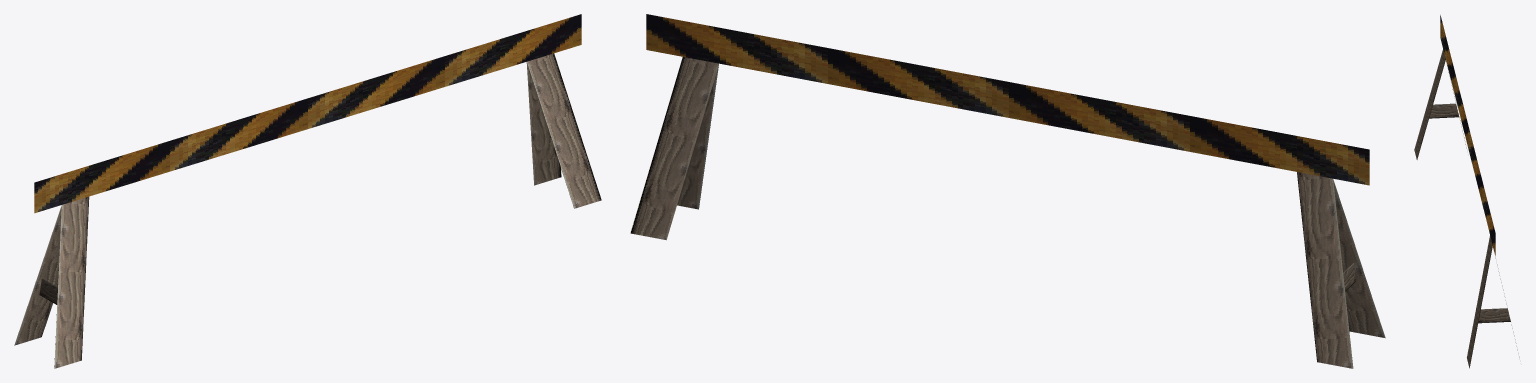
Rendered from primary_026.glb.
3 views of the same model, side by side, from view 1: azimuth 30°, elevation 25°; view 2: azimuth 150°, elevation 25°; view 3: azimuth 270°, elevation 25° (orthographic). The views are drawn at different scales.
Visible parts, largest first — view 1: Object; view 2: Object; view 3: Object.
Part boxes in pixels (x1,y1,x2,y2): Object: (14,14,601,368); Object: (630,14,1385,368); Object: (1414,15,1519,368).
Bounding box in the file's own units: 4.46 × 1.26 × 0.9129.
7 materials, 7 textured.
